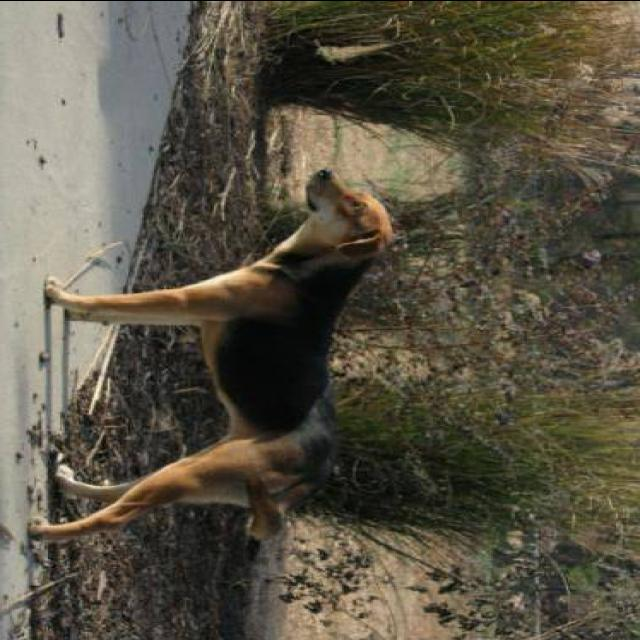dog: (26, 168, 416, 564)
